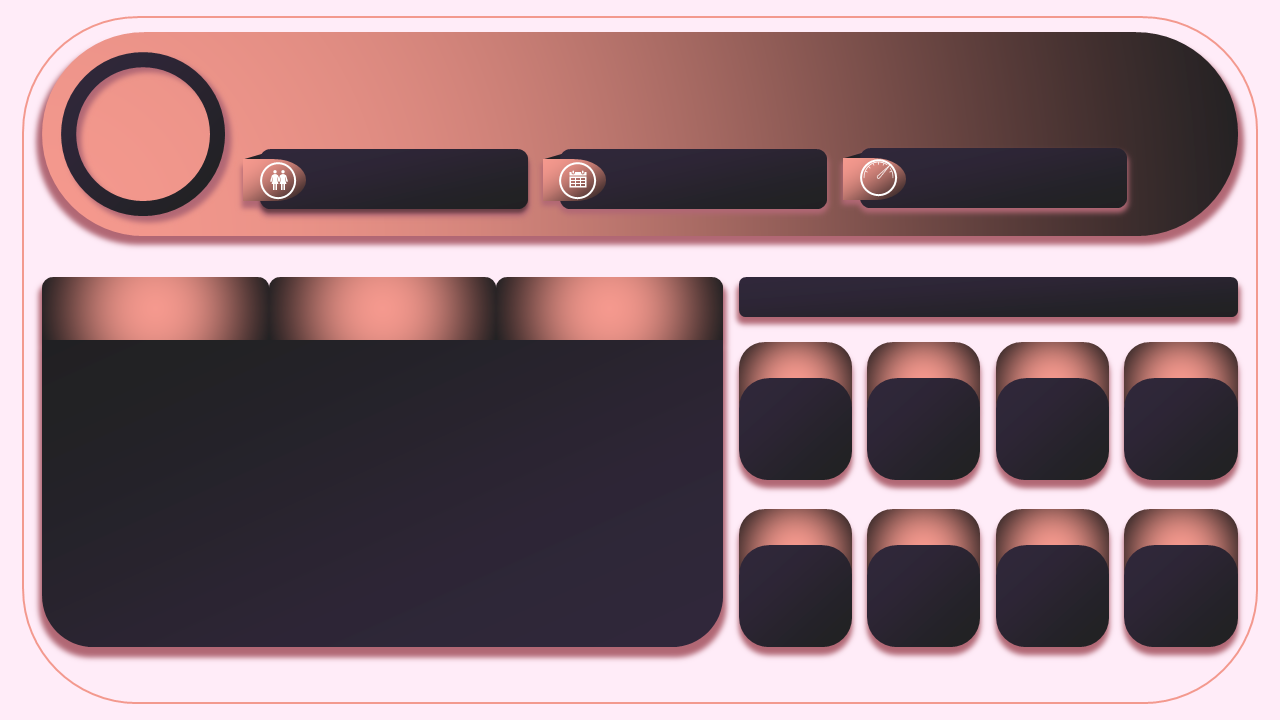

The page's visual inventory and layout, read from the dashboard file:
{"tool":"powerbi","page":{"name":"1. sayfa","canvas":[1920,1080],"ordinal":0},"visuals":[{"type":"slicer","fields":{"Values":["son_dönem.Personel İsmi"]},"box":[388.1,102.1,410,46.7],"z":0},{"type":"tableEx","fields":{"Values":["son_dönem.Foto Url"]},"box":[89,40.9,272.8,296.2],"z":1000},{"type":"card","fields":{"Values":["Min(son_dönem.Bölgesi)"]},"box":[388.1,214.5,410,55.4],"z":2000},{"type":"card","fields":{"Values":["Min(son_dönem.Görevi)"]},"box":[388.1,241.5,410,51.1],"z":3000},{"type":"card","fields":{"Values":["Min(son_dönem.Ünvanı)"]},"box":[388.1,267,410,51.1],"z":4000},{"type":"textbox","box":[844.7,233.4,395.4,37.9],"z":5000},{"type":"card","fields":{"Values":["Min(son_dönem.İşe Giriş Tarihi)"]},"box":[837.4,255.3,410,51.1],"z":6000},{"type":"textbox","box":[1291.2,233.4,395.4,37.9],"z":6001},{"type":"card","fields":{"Values":["Sum(son_dönem.H/G)"]},"box":[1283.9,255.3,410,51.1],"z":6002},{"type":"textbox","box":[1107.4,426,749.9,40.9],"z":6003},{"type":"tableEx","fields":{"Values":["Ölçüler.birinci_foto"]},"box":[1119,500.4,148.8,175.1],"z":6004},{"type":"card","fields":{"Values":["Ölçüler.birinci_isim"]},"box":[1110.3,631.7,166.3,102.1],"z":6005},{"type":"card","fields":{"Values":["Ölçüler.birinci_hg"]},"box":[1107.4,485.8,166.3,102.1],"z":6006},{"type":"tableEx","fields":{"Values":["Ölçüler.ikinci_foto"]},"box":[1311.6,500.4,148.8,175.1],"z":6007},{"type":"card","fields":{"Values":["Ölçüler.ikinci_isim"]},"box":[1302.9,631.7,166.3,102.1],"z":6008},{"type":"card","fields":{"Values":["Ölçüler.ikinci_hg"]},"box":[1302.9,485.8,166.3,102.1],"z":6009},{"type":"tableEx","fields":{"Values":["Ölçüler.ucuncu_foto"]},"box":[1504.2,500.4,148.8,175.1],"z":6010},{"type":"card","fields":{"Values":["Ölçüler.ucuncu_isim"]},"box":[1495.4,631.7,166.3,102.1],"z":6011},{"type":"card","fields":{"Values":["Ölçüler.ucuncu_hg"]},"box":[1495.4,485.8,166.3,102.1],"z":6012},{"type":"tableEx","fields":{"Values":["Ölçüler.dorduncu_foto"]},"box":[1698,500.2,148.8,175.1],"z":6013},{"type":"card","fields":{"Values":["Ölçüler.dorduncu_isim"]},"box":[1689.3,631.5,166.3,102.1],"z":6014},{"type":"card","fields":{"Values":["Ölçüler.sekizinci_hg"]},"box":[1689.5,736.8,166.3,102.1],"z":6015},{"type":"tableEx","fields":{"Values":["Ölçüler.besinci_foto"]},"box":[1119,751.4,148.8,175.1],"z":6016},{"type":"card","fields":{"Values":["Ölçüler.besinci_isim"]},"box":[1110.3,882.7,166.3,102.1],"z":6017},{"type":"card","fields":{"Values":["Ölçüler.dorduncu_hg"]},"box":[1688,485.8,166.3,102.1],"z":6018},{"type":"tableEx","fields":{"Values":["Ölçüler.altinci_foto"]},"box":[1311.6,751.4,148.8,175.1],"z":6019},{"type":"card","fields":{"Values":["Ölçüler.altinci_isim"]},"box":[1301.4,882.7,166.3,102.1],"z":6020},{"type":"card","fields":{"Values":["Ölçüler.besinci_hg"]},"box":[1107.4,736.8,166.3,102.1],"z":6021},{"type":"tableEx","fields":{"Values":["Ölçüler.yedinci_foto"]},"box":[1504.2,751.4,148.8,175.1],"z":6022},{"type":"card","fields":{"Values":["Ölçüler.yedinci_isim"]},"box":[1495.4,882.7,166.3,102.1],"z":6023},{"type":"card","fields":{"Values":["Ölçüler.altinci_hg"]},"box":[1302.9,736.8,166.3,102.1],"z":6024},{"type":"tableEx","fields":{"Values":["Ölçüler.sekizinci_foto"]},"box":[1698.2,751.4,148.8,175.1],"z":6025},{"type":"card","fields":{"Values":["Ölçüler.sekizinci_isim"]},"box":[1689.5,882.7,166.3,102.1],"z":6026},{"type":"card","fields":{"Values":["Ölçüler.yedinci_hg"]},"box":[1495.4,736.8,166.3,102.1],"z":6027},{"type":"dg5AAA90EFEFE747CB9357C4FC19B85A58","fields":{"max":["Sum(tüm_dönem_hg.Hedef)"],"pointerValue":["Sum(tüm_dönem_hg.Satış)"],"percentage":["Sum(tüm_dönem_hg.H/G)"]},"box":[70.5,583.9,318.1,342.9],"z":6028},{"type":"dg5AAA90EFEFE747CB9357C4FC19B85A58","fields":{"max":["Sum(tüm_dönem_hg.Hedef)"],"pointerValue":["Sum(tüm_dönem_hg.Satış)"],"percentage":["Sum(tüm_dönem_hg.H/G)"]},"box":[413.6,583.9,318.1,342.9],"z":6029},{"type":"dg5AAA90EFEFE747CB9357C4FC19B85A58","fields":{"max":["Sum(tüm_dönem_hg.Hedef)"],"pointerValue":["Sum(tüm_dönem_hg.Satış)"],"percentage":["Sum(tüm_dönem_hg.H/G)"]},"box":[755.5,583.9,318.1,342.9],"z":6030},{"type":"bookmarkNavigator","box":[61.1,416.9,1023.8,85.5],"z":6034},{"type":"textbox","box":[1158.5,102.4,669,55.9],"z":6035},{"type":"actionButton","box":[1259.6,110.4,46.6,39.9],"z":6036}]}

Visuals, with their boxes in screenshot pixels (x1, y1, x2, y2), scaled from the page's 1920x1080 canvas onto the 1280x720 screenshot:
slicer - son_dönem.Personel İsmi: (x1=259, y1=68, x2=532, y2=99)
tableEx - son_dönem.Foto Url: (x1=59, y1=27, x2=241, y2=225)
card - Min(son_dönem.Bölgesi): (x1=259, y1=143, x2=532, y2=180)
card - Min(son_dönem.Görevi): (x1=259, y1=161, x2=532, y2=195)
card - Min(son_dönem.Ünvanı): (x1=259, y1=178, x2=532, y2=212)
textbox: (x1=563, y1=156, x2=827, y2=181)
card - Min(son_dönem.İşe Giriş Tarihi): (x1=558, y1=170, x2=832, y2=204)
textbox: (x1=861, y1=156, x2=1124, y2=181)
card - Sum(son_dönem.H/G): (x1=856, y1=170, x2=1129, y2=204)
textbox: (x1=738, y1=284, x2=1238, y2=311)
tableEx - Ölçüler.birinci_foto: (x1=746, y1=334, x2=845, y2=450)
card - Ölçüler.birinci_isim: (x1=740, y1=421, x2=851, y2=489)
card - Ölçüler.birinci_hg: (x1=738, y1=324, x2=849, y2=392)
tableEx - Ölçüler.ikinci_foto: (x1=874, y1=334, x2=974, y2=450)
card - Ölçüler.ikinci_isim: (x1=869, y1=421, x2=979, y2=489)
card - Ölçüler.ikinci_hg: (x1=869, y1=324, x2=979, y2=392)
tableEx - Ölçüler.ucuncu_foto: (x1=1003, y1=334, x2=1102, y2=450)
card - Ölçüler.ucuncu_isim: (x1=997, y1=421, x2=1108, y2=489)
card - Ölçüler.ucuncu_hg: (x1=997, y1=324, x2=1108, y2=392)
tableEx - Ölçüler.dorduncu_foto: (x1=1132, y1=333, x2=1231, y2=450)
card - Ölçüler.dorduncu_isim: (x1=1126, y1=421, x2=1237, y2=489)
card - Ölçüler.sekizinci_hg: (x1=1126, y1=491, x2=1237, y2=559)
tableEx - Ölçüler.besinci_foto: (x1=746, y1=501, x2=845, y2=618)
card - Ölçüler.besinci_isim: (x1=740, y1=588, x2=851, y2=657)
card - Ölçüler.dorduncu_hg: (x1=1125, y1=324, x2=1236, y2=392)
tableEx - Ölçüler.altinci_foto: (x1=874, y1=501, x2=974, y2=618)
card - Ölçüler.altinci_isim: (x1=868, y1=588, x2=978, y2=657)
card - Ölçüler.besinci_hg: (x1=738, y1=491, x2=849, y2=559)
tableEx - Ölçüler.yedinci_foto: (x1=1003, y1=501, x2=1102, y2=618)
card - Ölçüler.yedinci_isim: (x1=997, y1=588, x2=1108, y2=657)
card - Ölçüler.altinci_hg: (x1=869, y1=491, x2=979, y2=559)
tableEx - Ölçüler.sekizinci_foto: (x1=1132, y1=501, x2=1231, y2=618)
card - Ölçüler.sekizinci_isim: (x1=1126, y1=588, x2=1237, y2=657)
card - Ölçüler.yedinci_hg: (x1=997, y1=491, x2=1108, y2=559)
dg5AAA90EFEFE747CB9357C4FC19B85A58 - Sum(tüm_dönem_hg.Hedef) x Sum(tüm_dönem_hg.Satış): (x1=47, y1=389, x2=259, y2=618)
dg5AAA90EFEFE747CB9357C4FC19B85A58 - Sum(tüm_dönem_hg.Hedef) x Sum(tüm_dönem_hg.Satış): (x1=276, y1=389, x2=488, y2=618)
dg5AAA90EFEFE747CB9357C4FC19B85A58 - Sum(tüm_dönem_hg.Hedef) x Sum(tüm_dönem_hg.Satış): (x1=504, y1=389, x2=716, y2=618)
bookmarkNavigator: (x1=41, y1=278, x2=723, y2=335)
textbox: (x1=772, y1=68, x2=1218, y2=106)
actionButton: (x1=840, y1=74, x2=871, y2=100)
